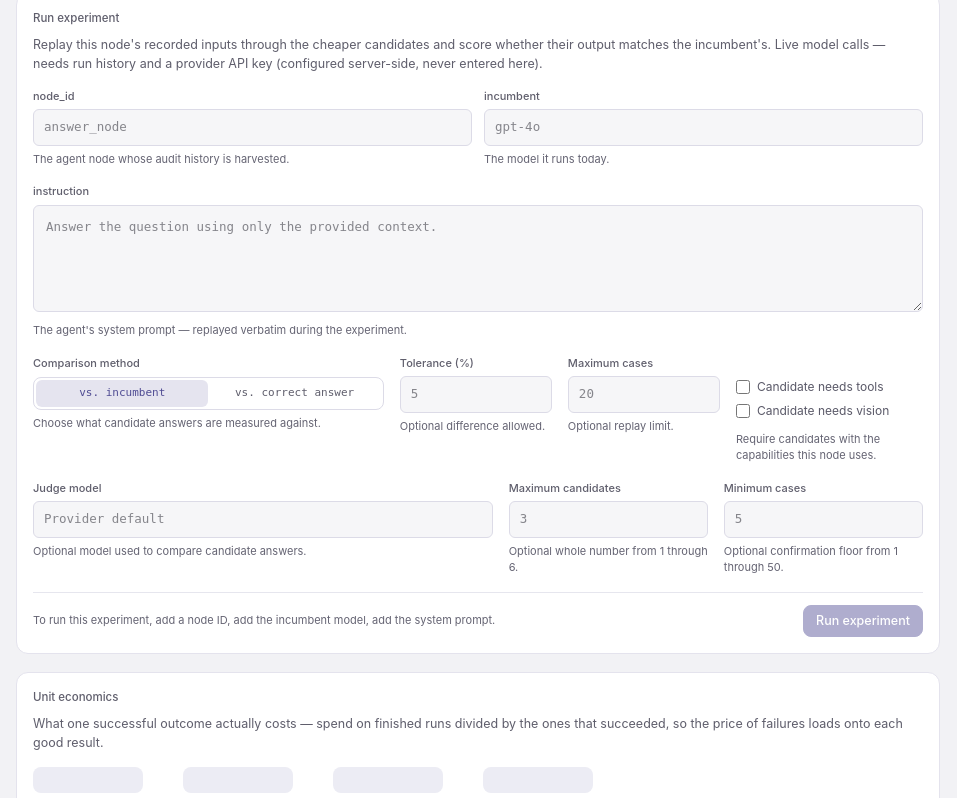
it: measured Rightsizing fields › gives every reachable control a stable evidence identity
This screenshot has width=957, height=798.
(page scrolled)
Click the radio button labelled "vs. correct answer".
click(295, 393)  # box [208,380,381,407]
(page scrolled)
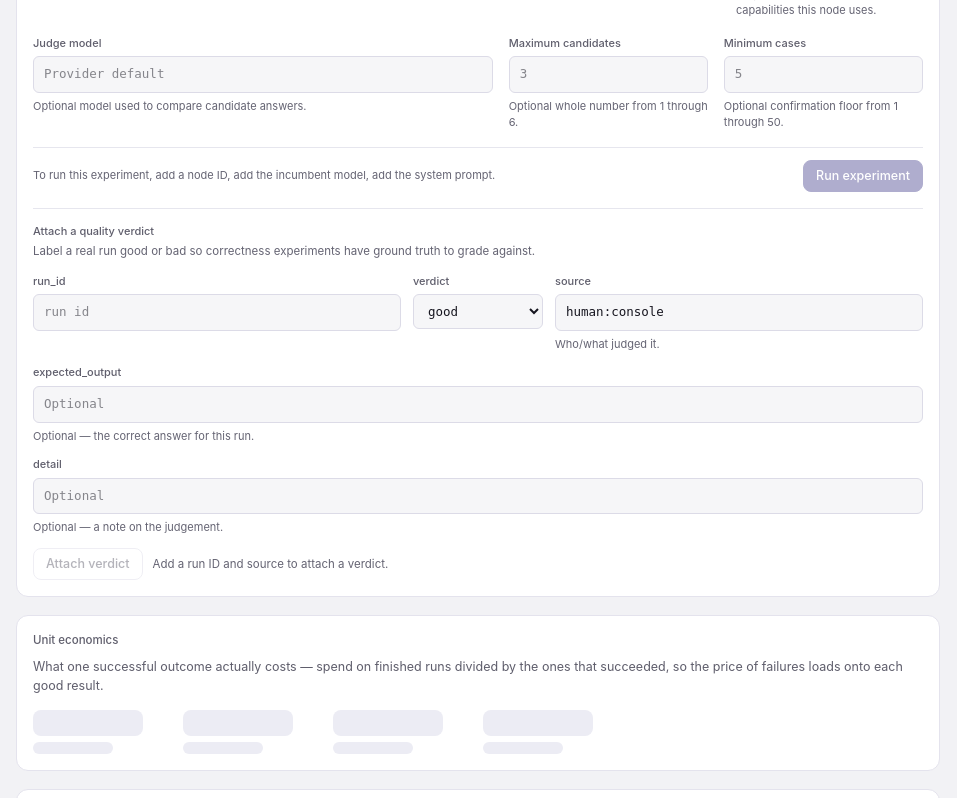
Check: the element that starts with "Attach a quality verdict" is shown, box [33,208,923,580]
